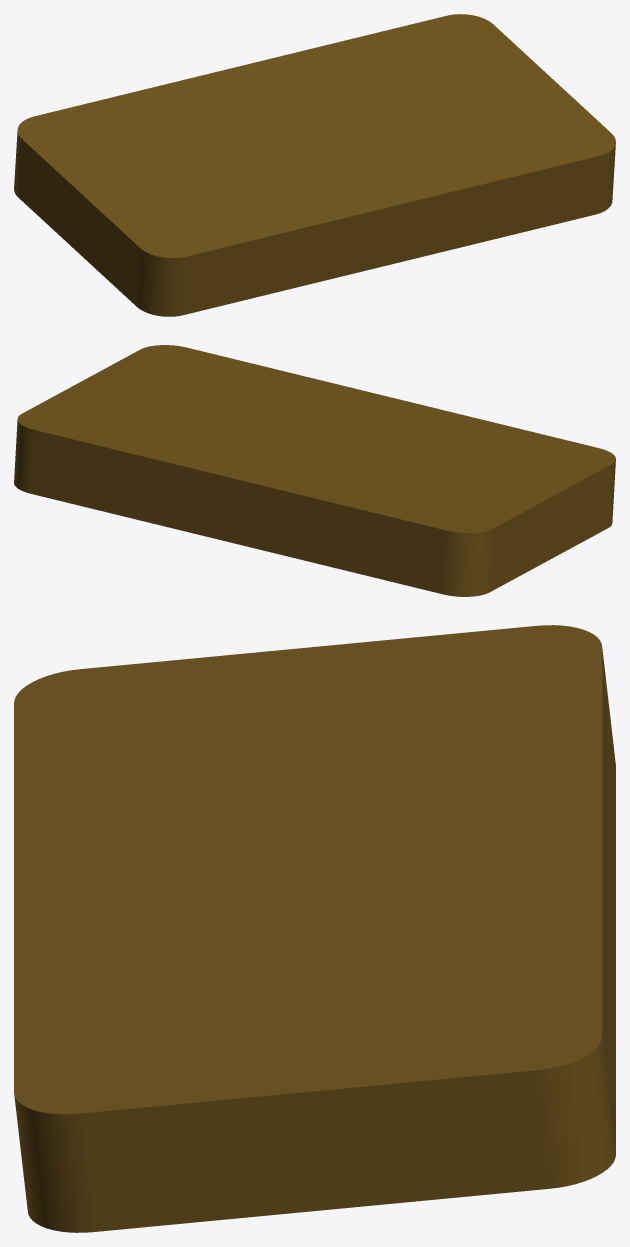
Rendered from original-38.obj.
3 renders of one model, top to bottom at view 1: azimuth 30°, elevation 25°; view 2: azimuth 150°, elevation 25°; view 3: azimuth 270°, elevation 25°, orthographic. The views are drawn at different scales.
Visible parts, largest first — view 1: Group39/mesh109/mesh109-geometry#mesh109-geometry; view 2: Group39/mesh109/mesh109-geometry#mesh109-geometry; view 3: Group39/mesh109/mesh109-geometry#mesh109-geometry.
Part boxes in pixels (left/top/right/bottom): Group39/mesh109/mesh109-geometry#mesh109-geometry: left=14, top=14, right=615, bottom=316; Group39/mesh109/mesh109-geometry#mesh109-geometry: left=14, top=345, right=615, bottom=596; Group39/mesh109/mesh109-geometry#mesh109-geometry: left=14, top=625, right=615, bottom=1232.
Bounding box in the file's own units: 0.0712 × 0.013 × 0.0407.
